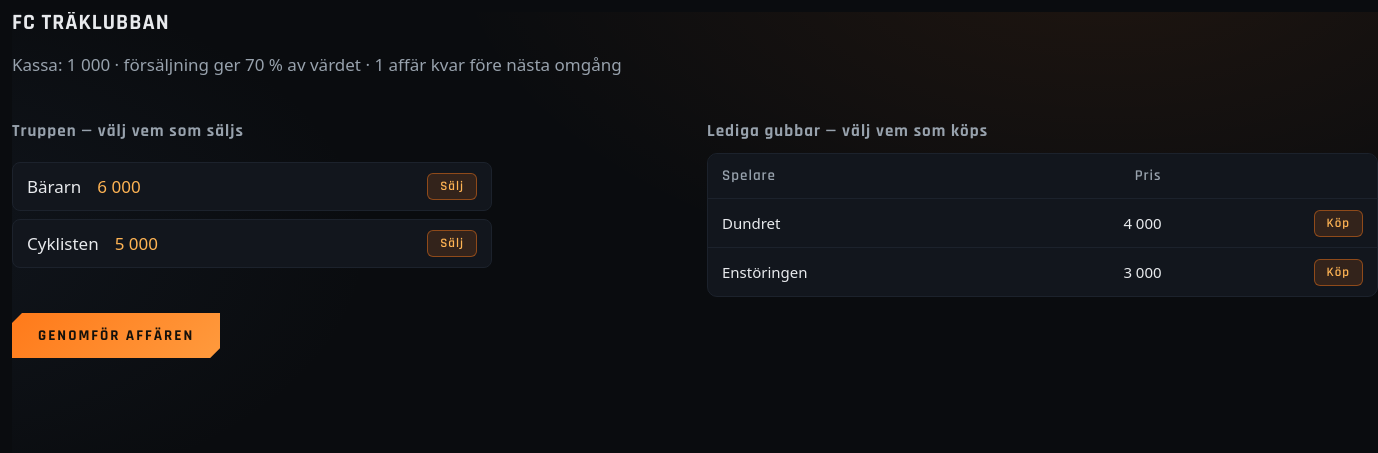
Test: TransferDesk › shows the server's verdict when someone got there first
Click the button "Sälj" in the row of "Bärarn".
click(452, 187)  # box [427, 173, 477, 200]
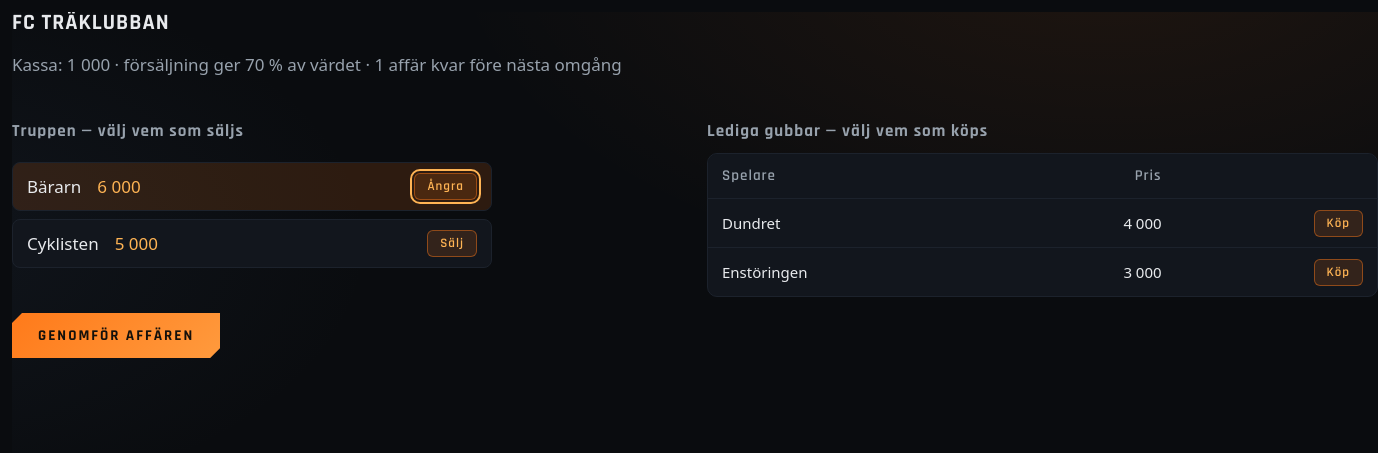
Click the button "Köp" in the row of "Dundret".
click(1338, 224)  # box [1314, 210, 1363, 237]
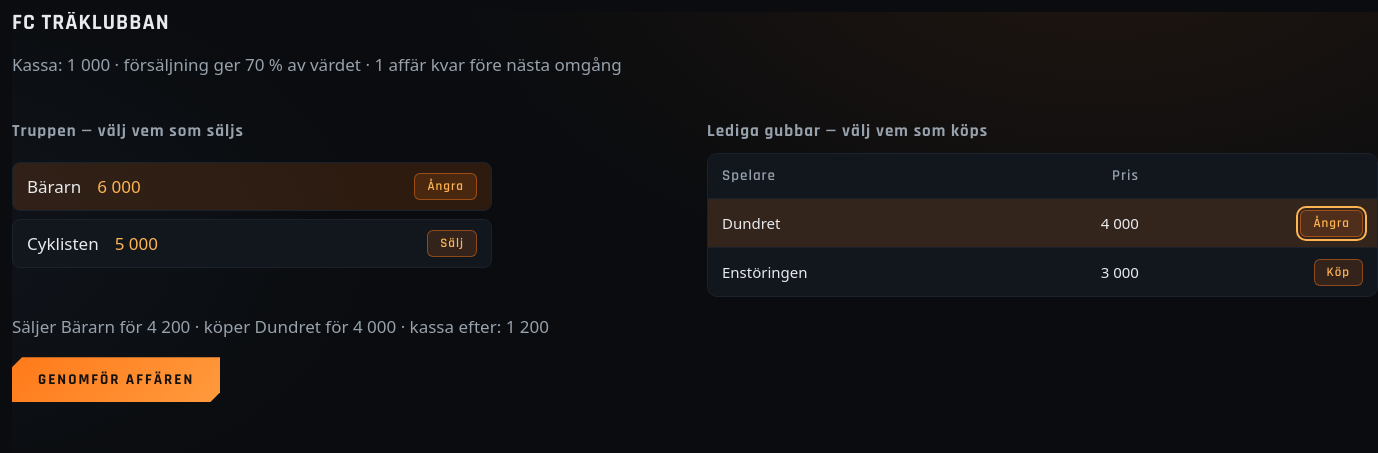
Click the button "Genomför affären".
click(116, 380)  # box [12, 357, 220, 402]
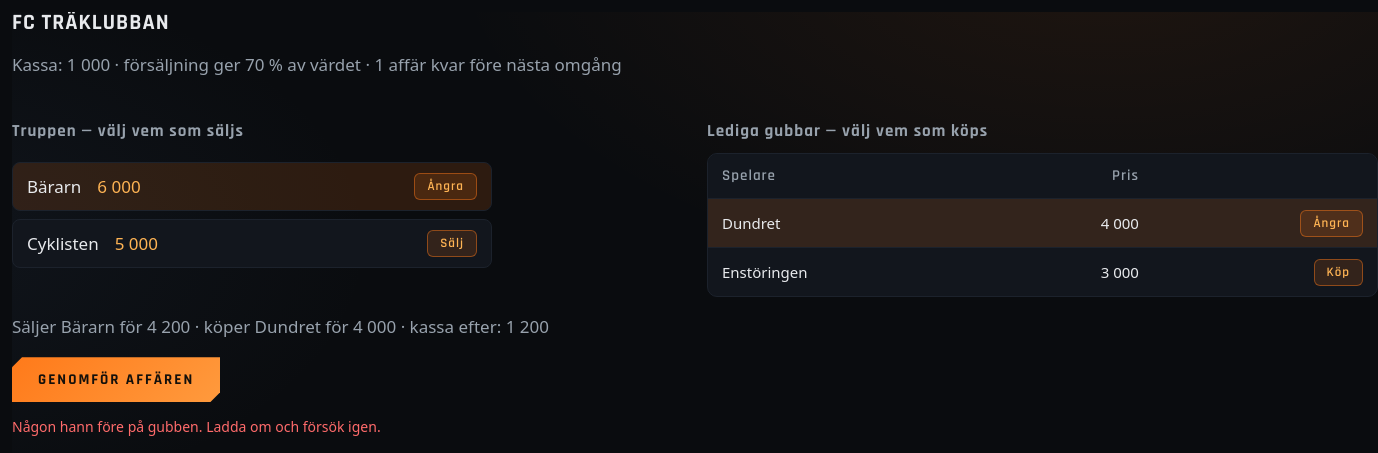
Check: the text "Någon hann före på gubben. Ladda om och försök igen." is shown, box [12, 417, 381, 436]
